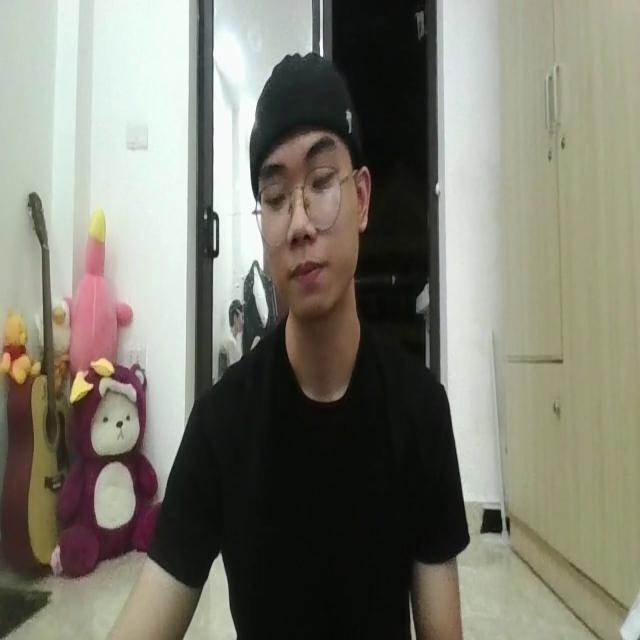student: (116, 42, 466, 640)
